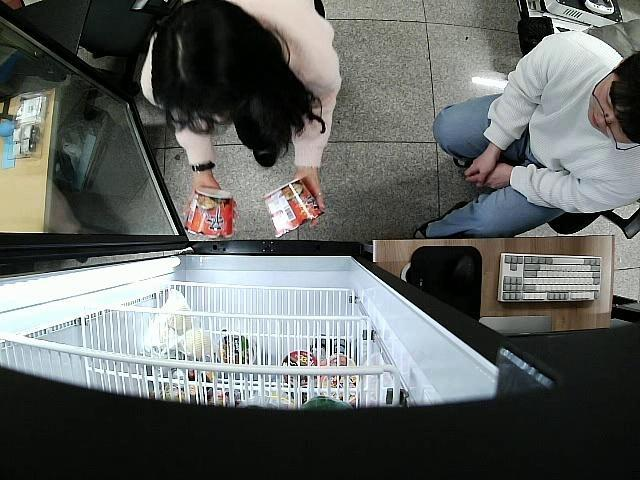01_ShinRamen_L: (264, 178, 322, 238), (184, 188, 236, 239)
